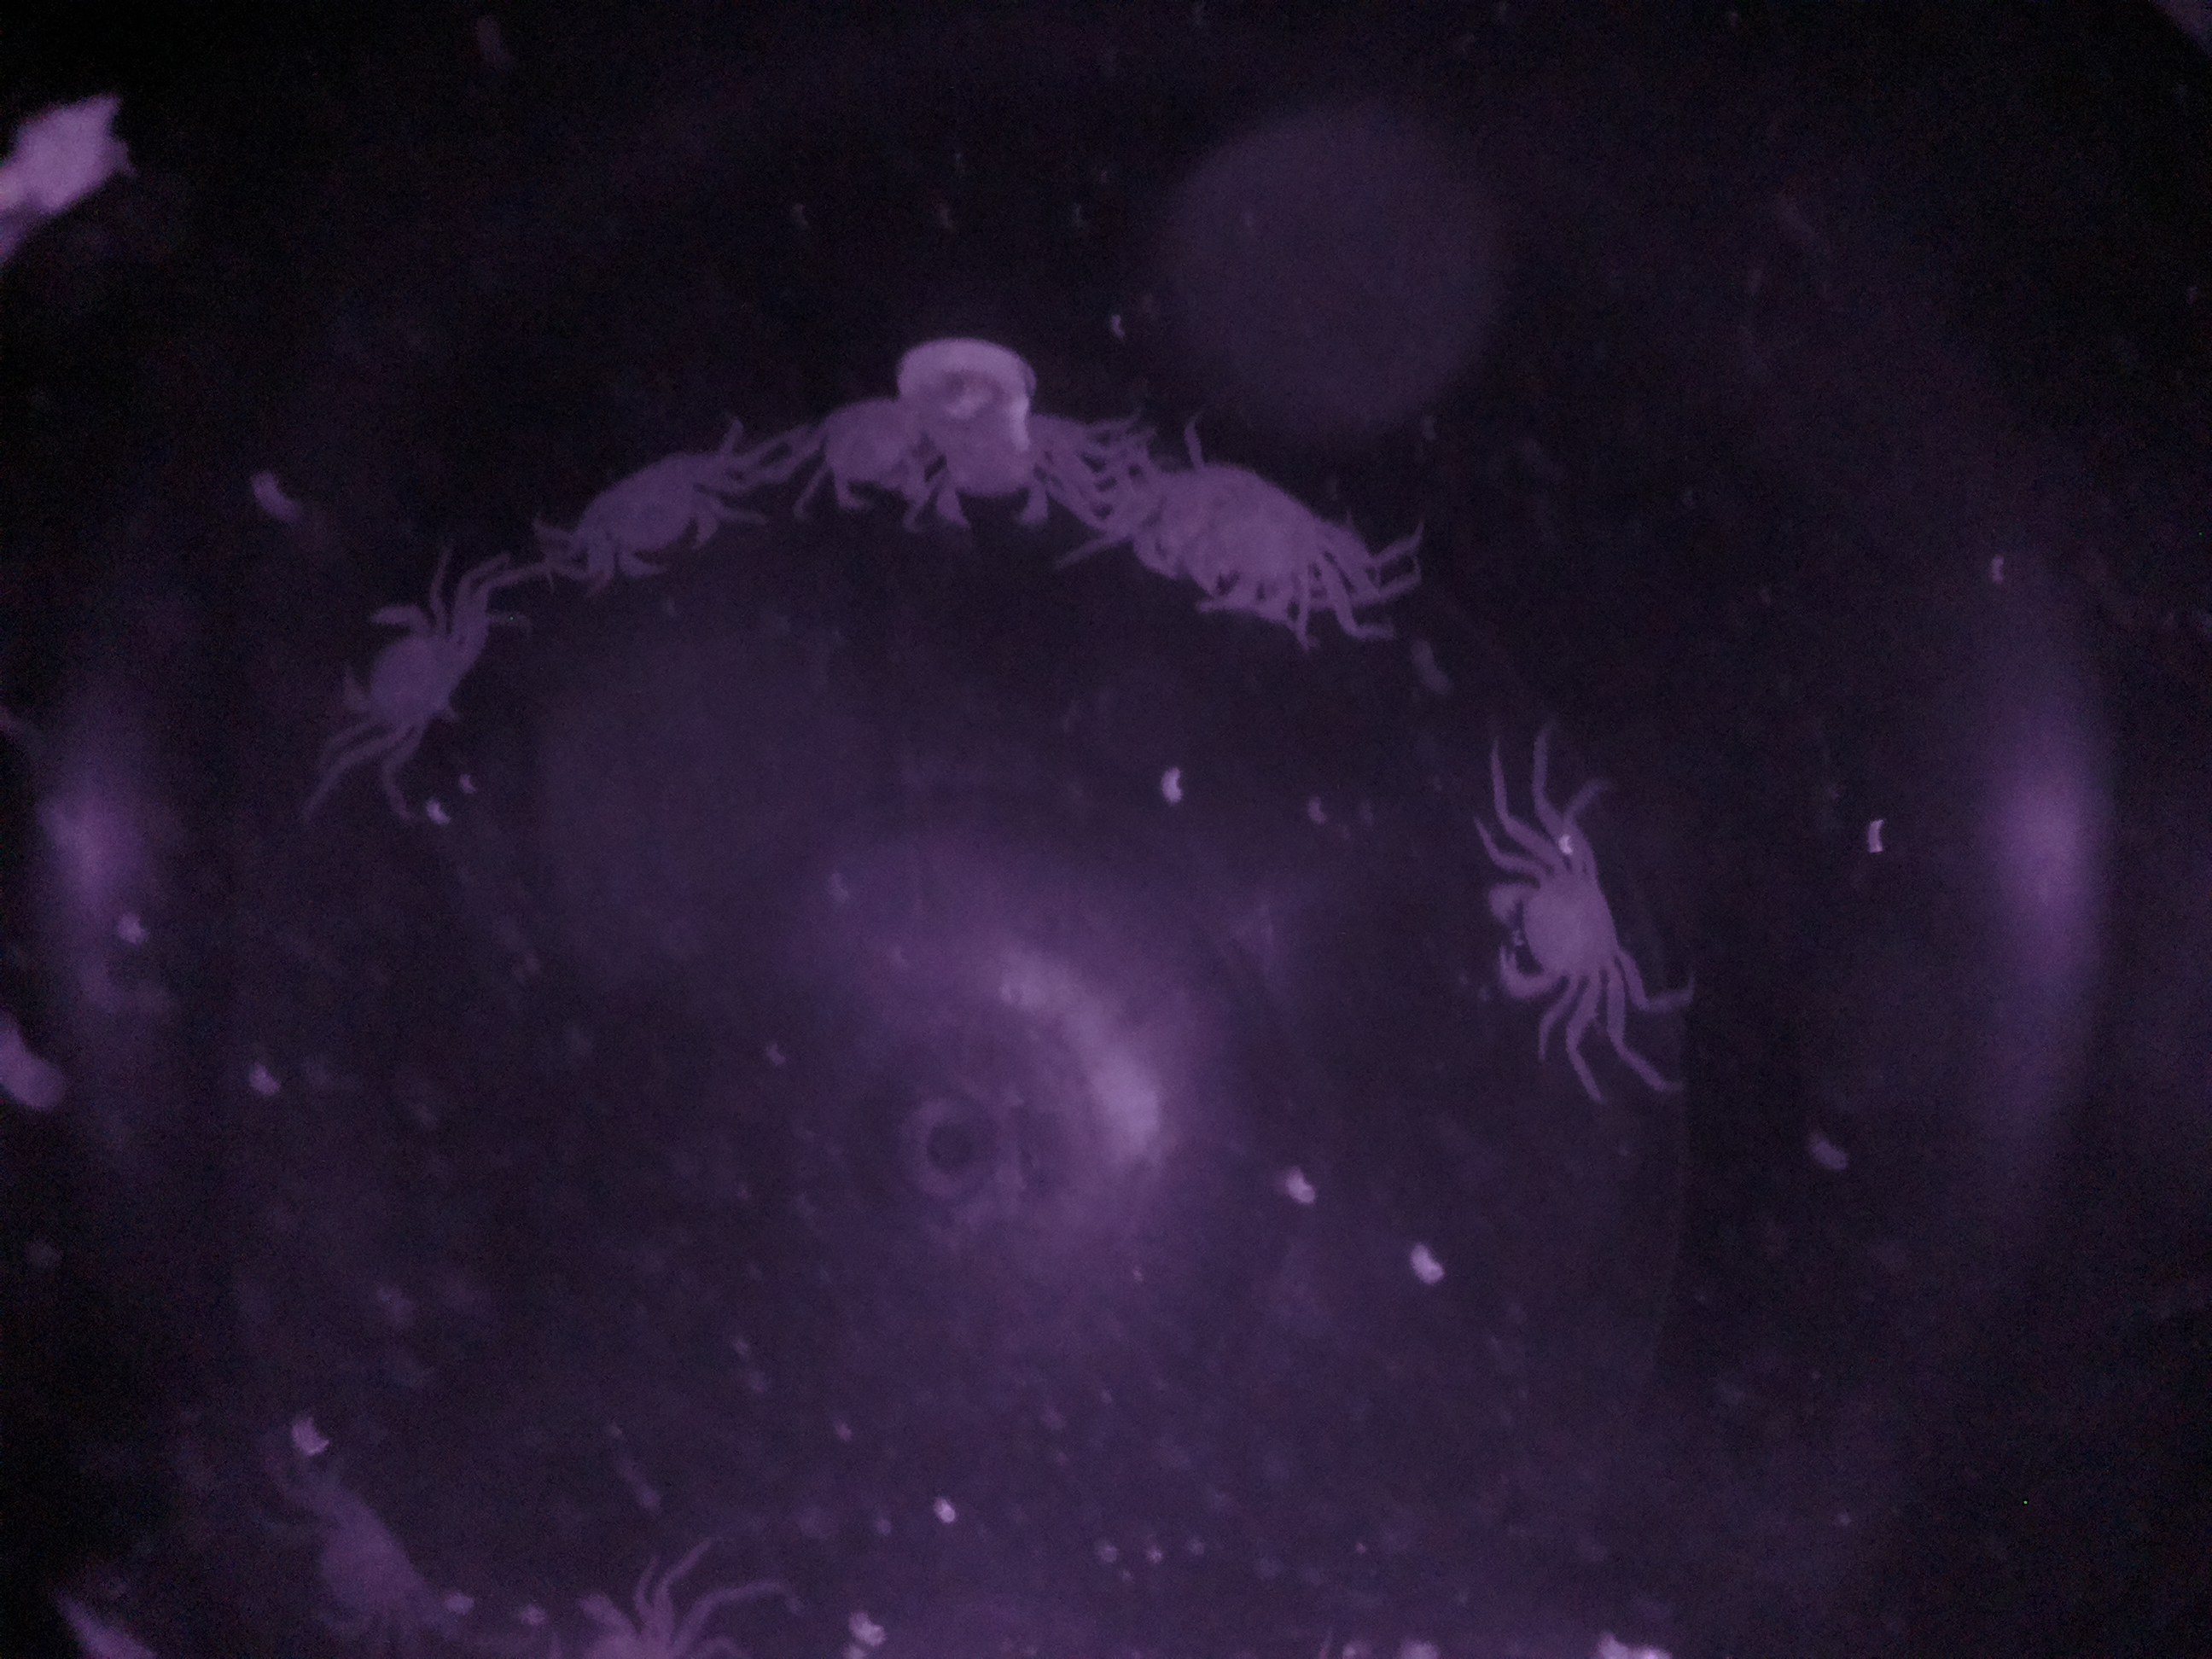Crab: (1465, 809, 1658, 1044), (310, 584, 516, 749), (570, 427, 744, 599)
